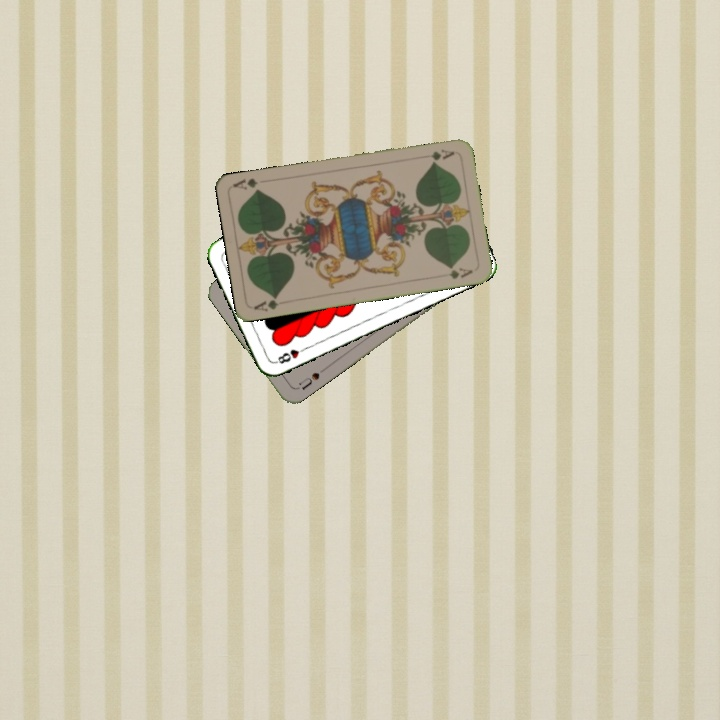GA: (417, 145, 457, 163), (250, 292, 281, 314)
H8: (271, 343, 310, 366)
SU: (291, 365, 327, 393)
